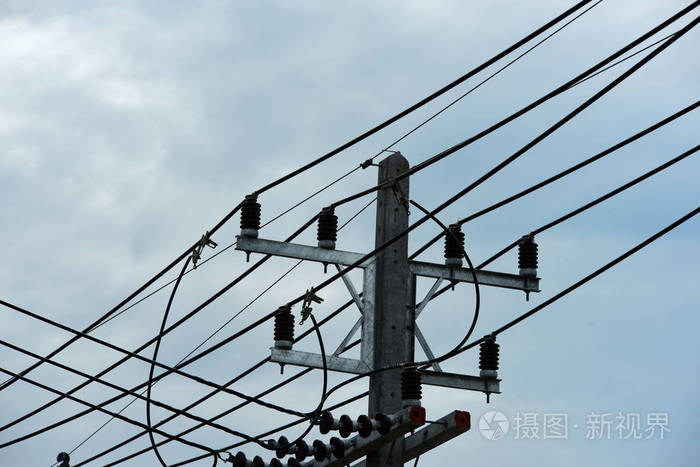insulator: (316, 410, 393, 437), (274, 437, 352, 460), (233, 453, 299, 467)
